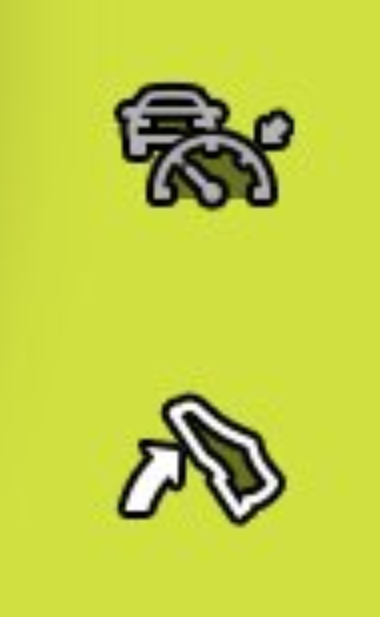ACCELERATOR: (96, 360, 314, 535)
ACC_AKTIV: (103, 54, 318, 232)
